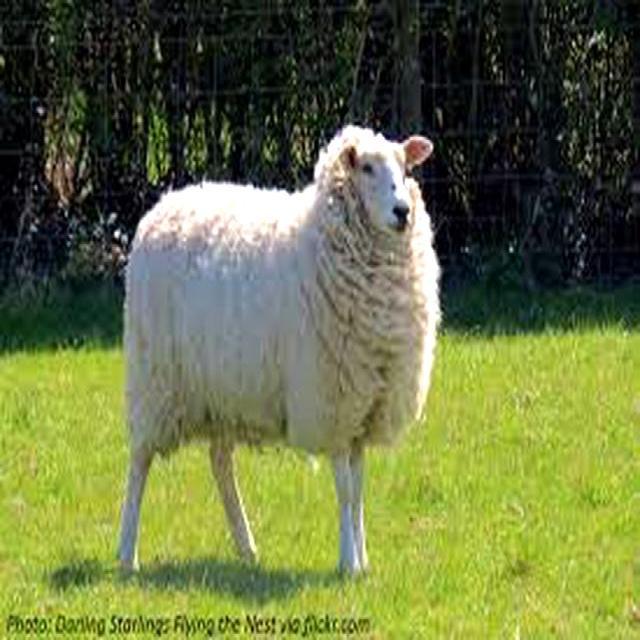sheep: (117, 122, 437, 578)
